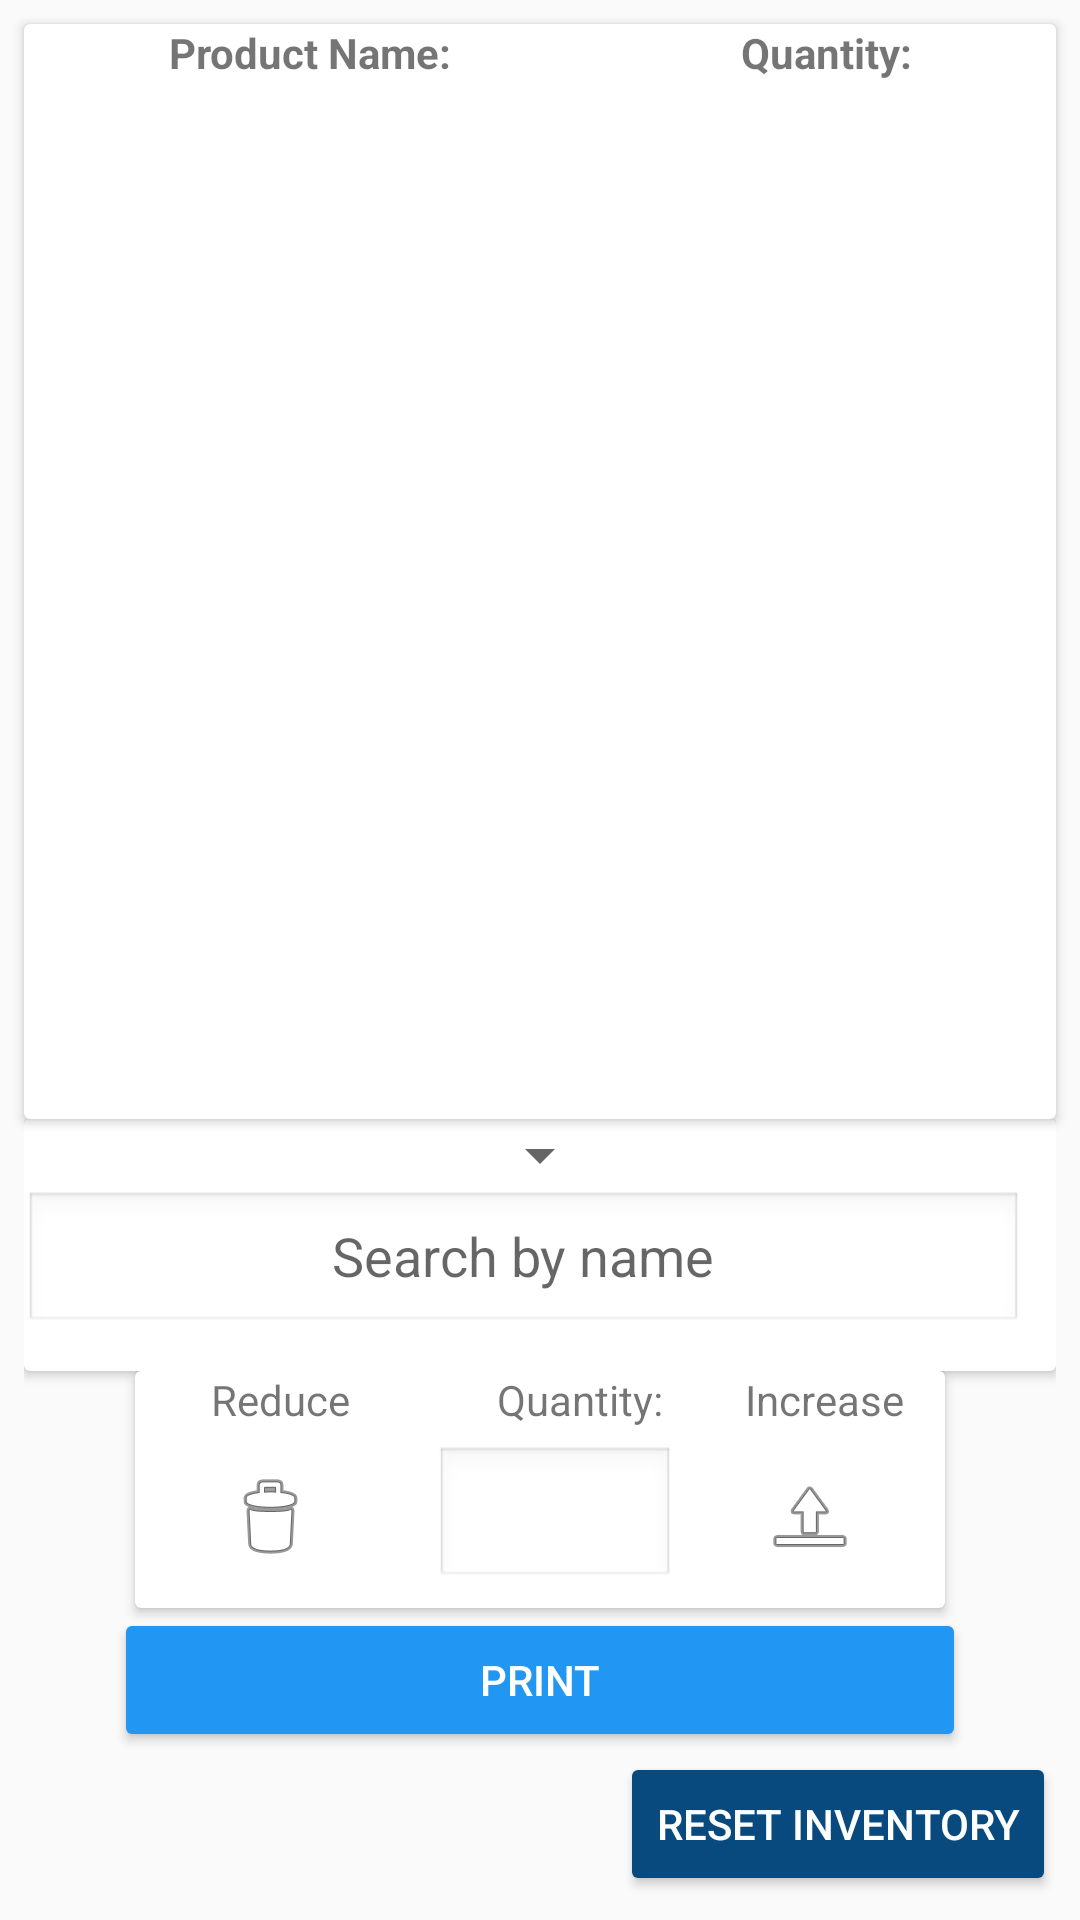

Locate icon controls on the screen. Image size 1080 x 1920, boxes as (x1, y1, x2, y2).
delete: (243, 1479, 298, 1554)
upload: (773, 1486, 847, 1547)
